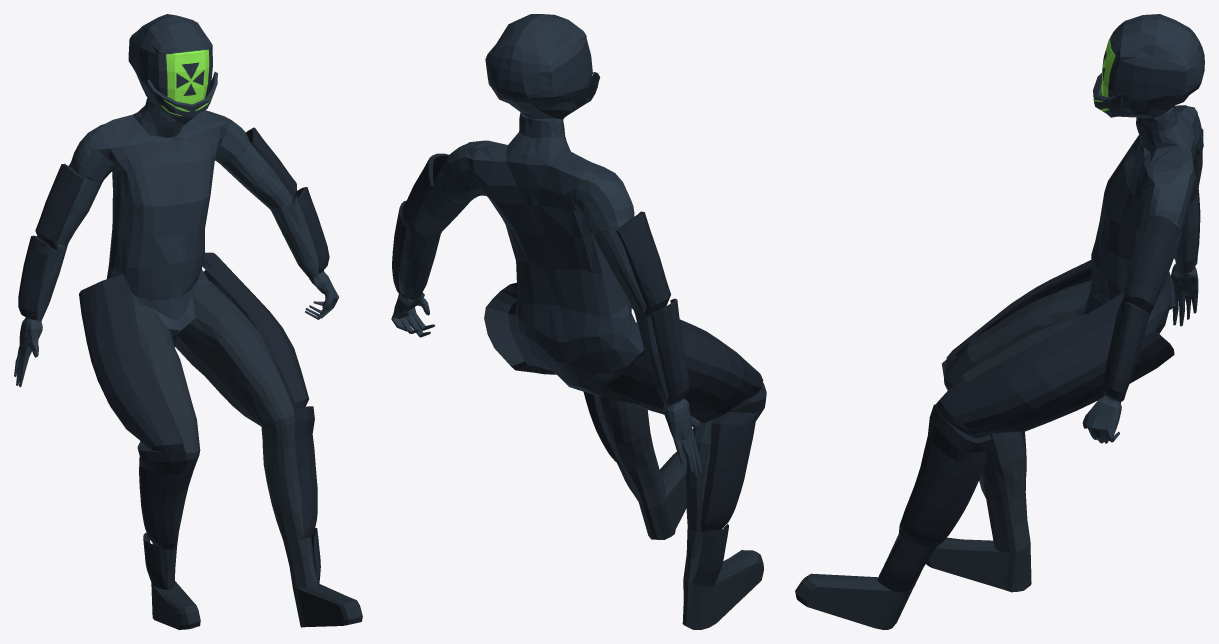
File: Bastion_Die_000003.obj
The picture shows the model from 3 angles, left to right: view 1: azimuth 30°, elevation 25°; view 2: azimuth 150°, elevation 25°; view 3: azimuth 270°, elevation 25°; orthographic projection. The views are drawn at different scales.
Visible parts, largest first — view 1: Cube.002; view 2: Cube.002; view 3: Cube.002.
Boxes of the visible parts, x1,y1,x2,y2 form: Cube.002: (14, 14, 362, 629); Cube.002: (391, 14, 766, 629); Cube.002: (795, 14, 1204, 629).
Size of the model in its own units: 1.88 by 3.35 by 2.05.
